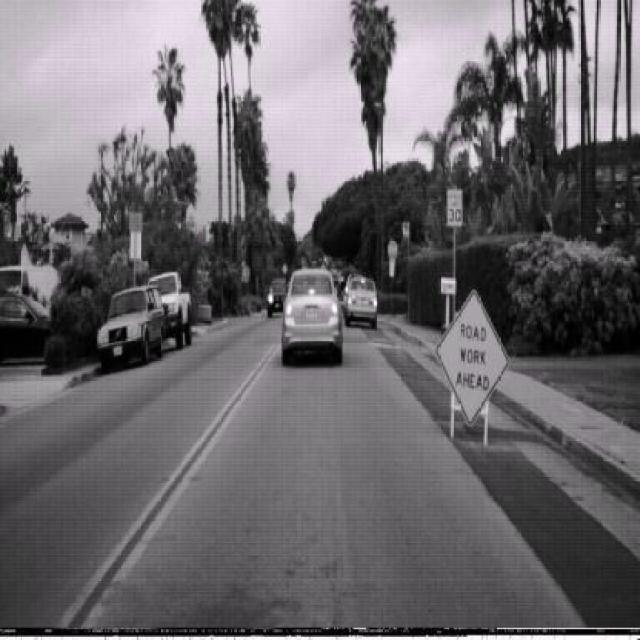speedLimit30: (446, 186, 462, 227)
